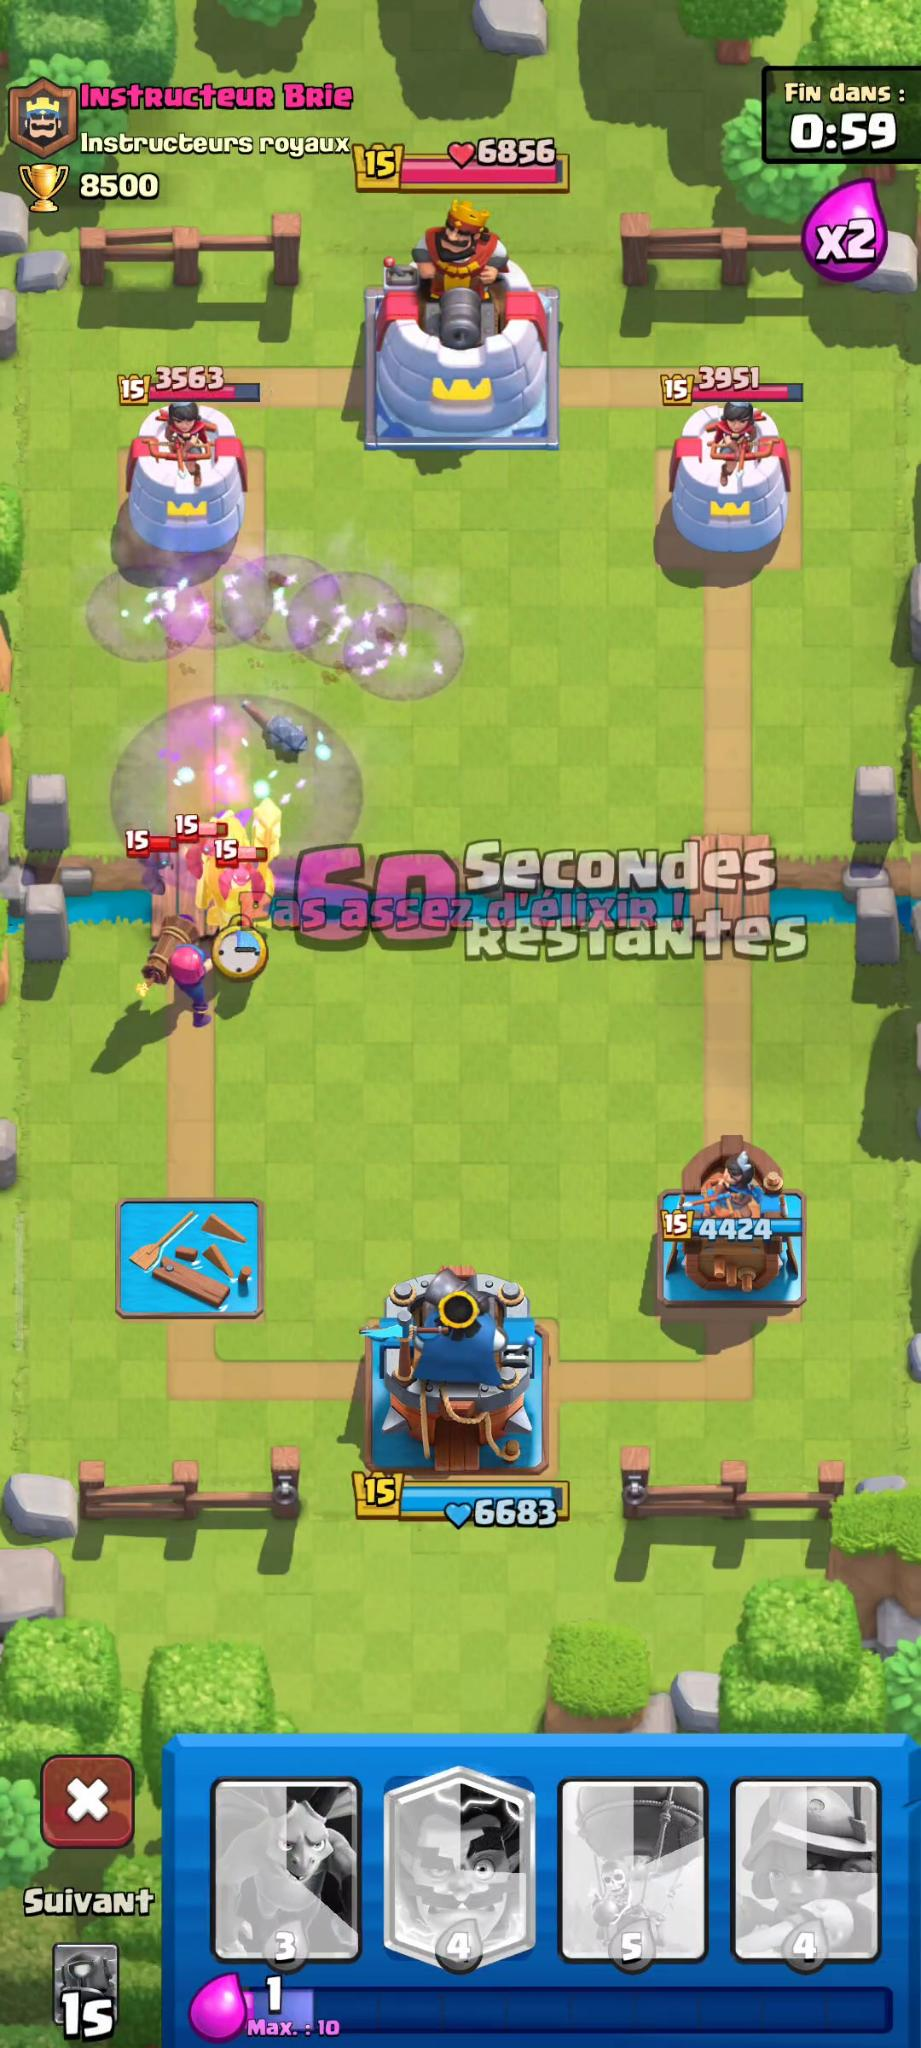bat: (210, 840, 270, 927), (172, 806, 222, 883), (124, 832, 176, 896)
